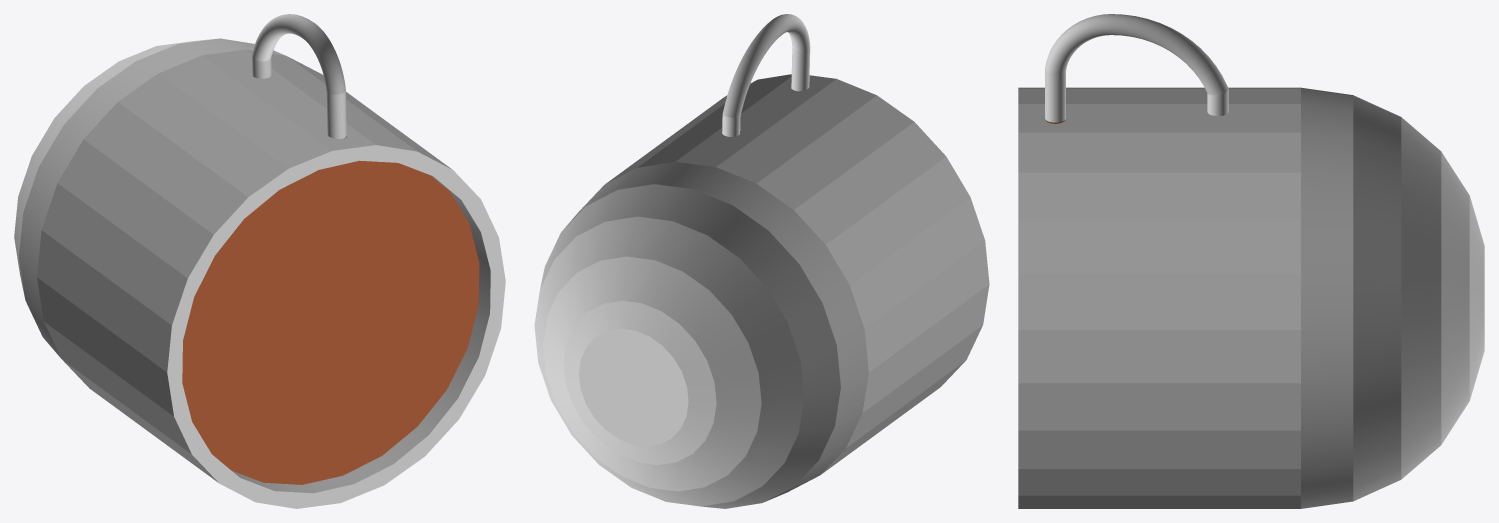
Rendered from model_align.obj.
3 renders of one model, left to right at view 1: azimuth 30°, elevation 25°; view 2: azimuth 150°, elevation 25°; view 3: azimuth 270°, elevation 25°, orthographic. The views are drawn at different scales.
Visible parts, largest first — view 1: mesh1_mesh1-geometry; view 2: mesh1_mesh1-geometry; view 3: mesh1_mesh1-geometry.
Part boxes in pixels (x1,y1,x2,y2): mesh1_mesh1-geometry: (14,14,505,508); mesh1_mesh1-geometry: (534,14,989,508); mesh1_mesh1-geometry: (1018,14,1484,508).
Bounding box in the file's own units: 0.0896 × 0.1129 × 0.0986.
